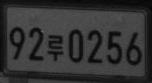0: (67, 28, 84, 63)
2: (85, 28, 104, 65), (27, 26, 44, 62)
5: (105, 30, 123, 65)
6: (124, 30, 142, 66)
9: (8, 26, 26, 60)
루: (47, 33, 64, 61)
